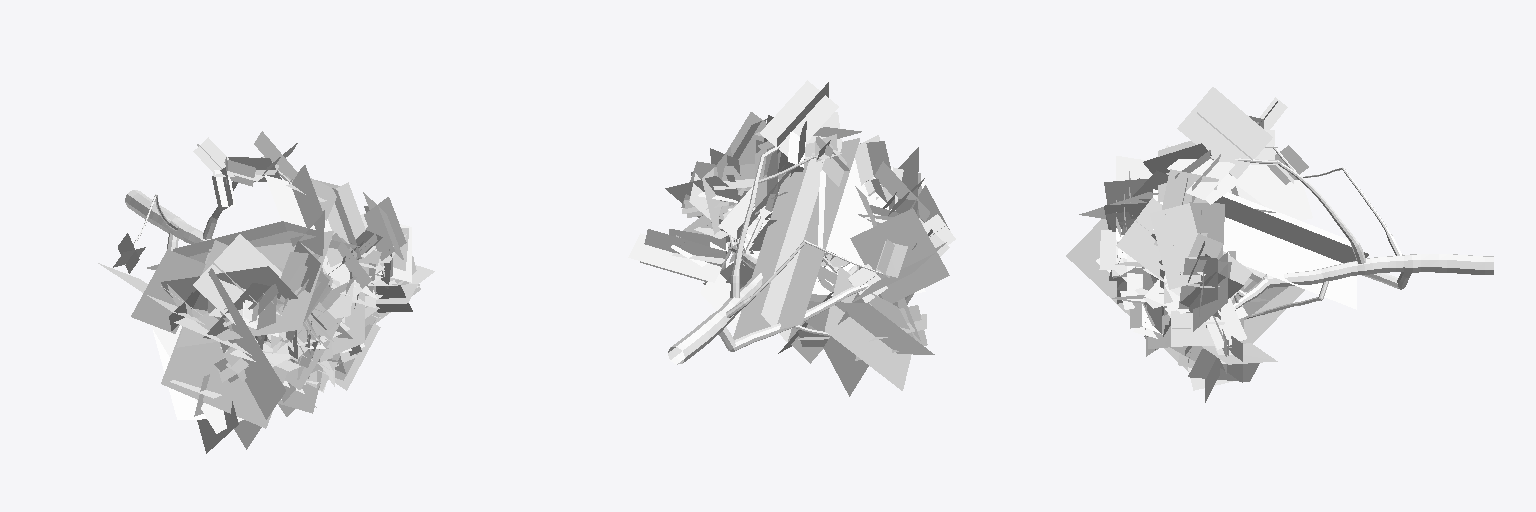
3 renders of one model, left to right at view 1: azimuth 30°, elevation 25°; view 2: azimuth 150°, elevation 25°; view 3: azimuth 270°, elevation 25°, orthographic.
Visible parts, largest first — view 1: billborad236, billborad245, billborad241, billborad242, billborad26, trucks, billborad240, billborad251, billborad176, billborad219, billborad146, billborad218 (+17 smaller); view 2: billborad250, trucks, billborad242, billborad249, billborad251, billborad241, billborad248, billborad222, billborad245, billborad141, billborad140, billborad246 (+10 smaller); view 3: trucks, billborad250, billborad223, billborad251, billborad245, billborad147, billborad243, billborad171, billborad189, billborad177, billborad144, billborad157 (+12 smaller).
Boxes of the visible parts, <box> form: billborad236: <box>161,240,291,428</box>; billborad245: <box>207,268,285,449</box>; billborad241: <box>176,231,333,347</box>; billborad242: <box>131,249,205,333</box>; billborad26: <box>193,234,281,324</box>; trucks: <box>125,156,393,322</box>; billborad240: <box>161,266,326,329</box>; billborad251: <box>173,210,324,256</box>; billborad176: <box>326,182,365,266</box>; billborad219: <box>283,165,322,246</box>; billborad146: <box>364,197,406,260</box>; billborad218: <box>265,175,331,231</box>; billborad250: <box>733,138,859,339</box>; trucks: <box>668,145,885,364</box>; billborad242: <box>850,208,949,303</box>; billborad249: <box>825,267,911,390</box>; billborad251: <box>761,141,842,341</box>; billborad241: <box>818,158,924,292</box>; billborad248: <box>805,301,934,354</box>; billborad222: <box>760,80,838,156</box>; billborad245: <box>823,185,949,396</box>; billborad141: <box>628,233,721,282</box>; billborad140: <box>640,229,725,281</box>; billborad246: <box>848,214,955,302</box>; trucks: <box>1180,146,1493,318</box>; billborad250: <box>1153,189,1356,309</box>; billborad223: <box>1177,87,1272,178</box>; billborad251: <box>1133,170,1368,262</box>; billborad245: <box>1066,219,1304,371</box>; billborad147: <box>1150,203,1201,289</box>; billborad243: <box>1233,165,1312,220</box>; billborad171: <box>1116,198,1252,300</box>; billborad189: <box>1189,202,1224,259</box>; billborad177: <box>1154,169,1218,245</box>; billborad144: <box>1171,311,1213,346</box>; billborad157: <box>1206,298,1246,349</box>.
Bounding box in the file's own units: 6.53 × 6.35 × 7.88.